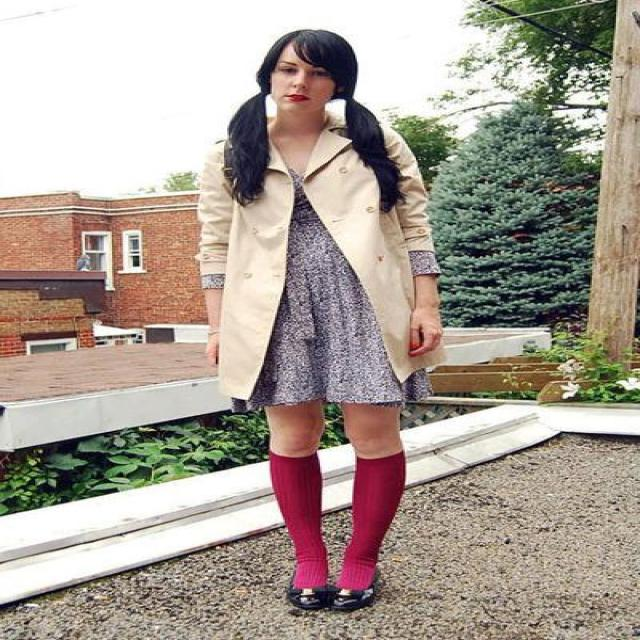dress: (174, 166, 430, 422)
jacket: (173, 103, 446, 396)
shoe: (288, 577, 381, 623)
